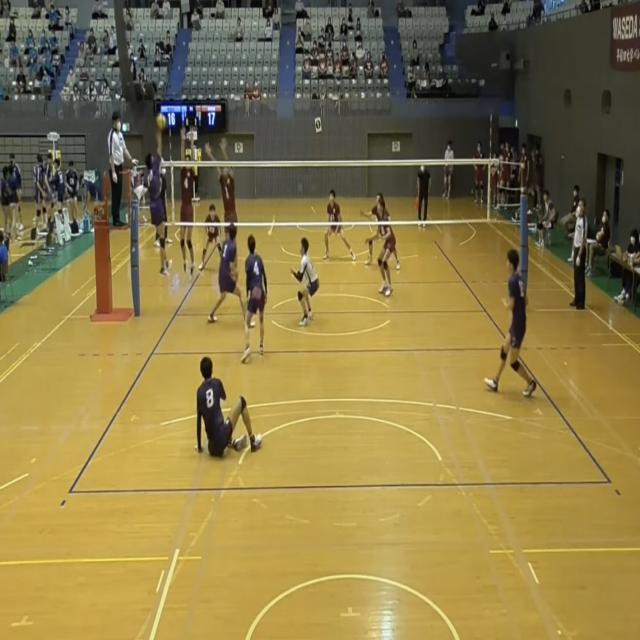spike: (142, 110, 175, 278)
